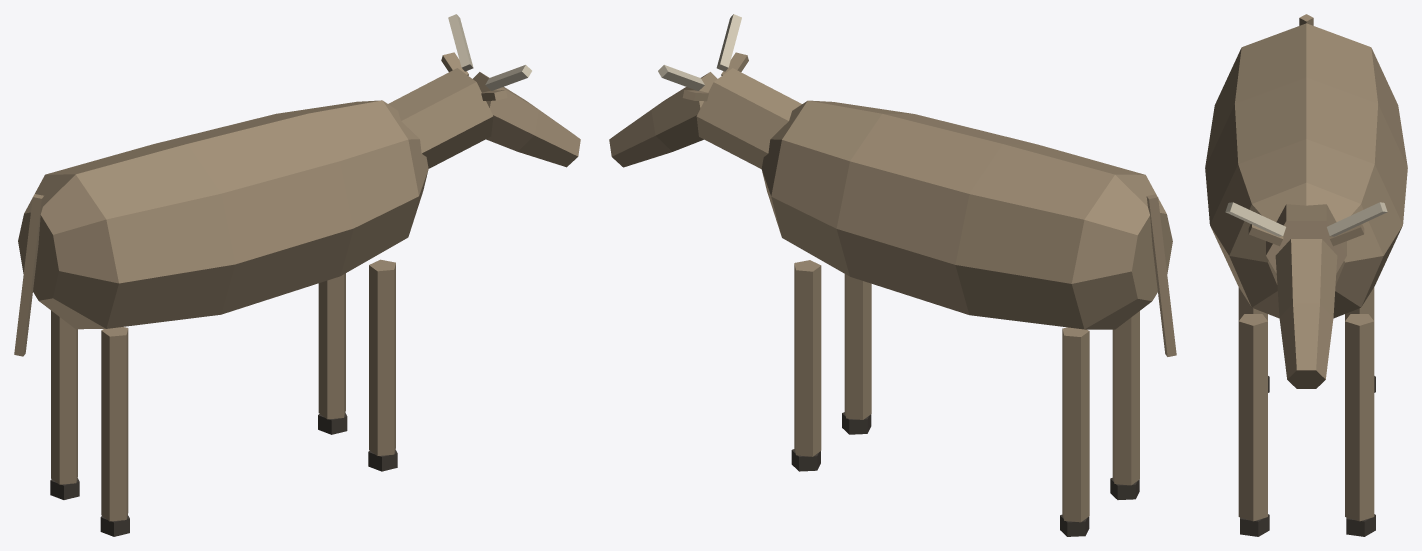
3 views of the same model, side by side, from view 1: azimuth 30°, elevation 25°; view 2: azimuth 150°, elevation 25°; view 3: azimuth 270°, elevation 25° (orthographic). The views are drawn at different scales.
Visible parts, largest first — view 1: ox; view 2: ox; view 3: ox.
Boxes of the visible parts, bbox=[...] form: ox: bbox=[14, 14, 580, 536]; ox: bbox=[609, 14, 1176, 536]; ox: bbox=[1205, 14, 1407, 536].
Bounding box in the file's own units: 2.42 × 1.54 × 0.714.
